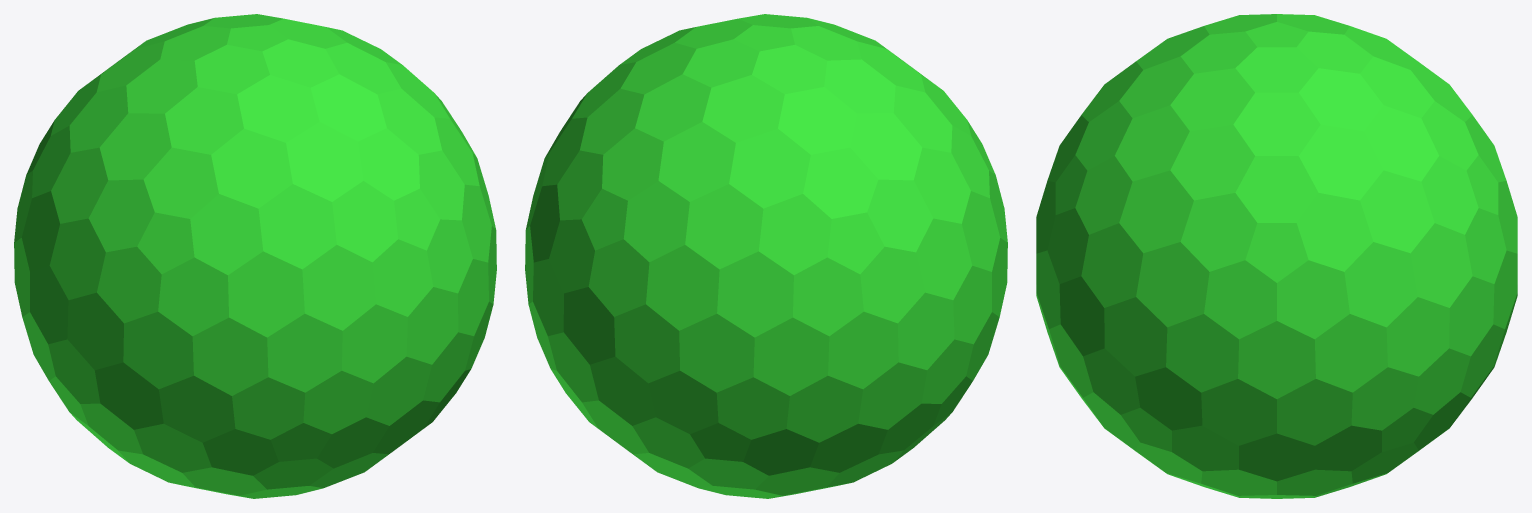
The model's file is Defence2.fbx.
3 renders of one model, left to right at view 1: azimuth 30°, elevation 25°; view 2: azimuth 150°, elevation 25°; view 3: azimuth 270°, elevation 25°, orthographic.
Parts seen in each view (by area): view 1: Icosphere; view 2: Icosphere; view 3: Icosphere.
Boxes of the visible parts, x1,y1,x2,y2 form: Icosphere: [14, 14, 496, 498]; Icosphere: [525, 14, 1007, 498]; Icosphere: [1036, 14, 1517, 498].
Size of the model in its own units: 194 by 195 by 193.
